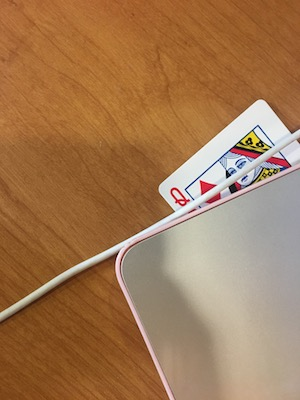QueenOfDiamonds: (152, 94, 300, 220)
